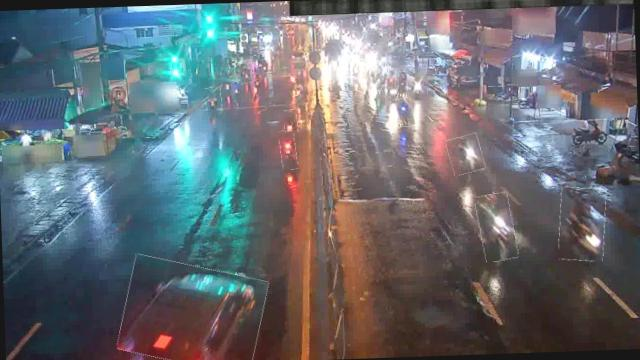Bike: (558, 187, 608, 263), (476, 192, 516, 262), (446, 135, 484, 175), (564, 120, 612, 144), (279, 130, 297, 170), (488, 85, 518, 106), (396, 98, 414, 128), (233, 61, 254, 84), (410, 71, 428, 96), (204, 87, 222, 110), (284, 110, 298, 134), (397, 72, 408, 98), (385, 68, 396, 94)
Car: (118, 257, 267, 360)
